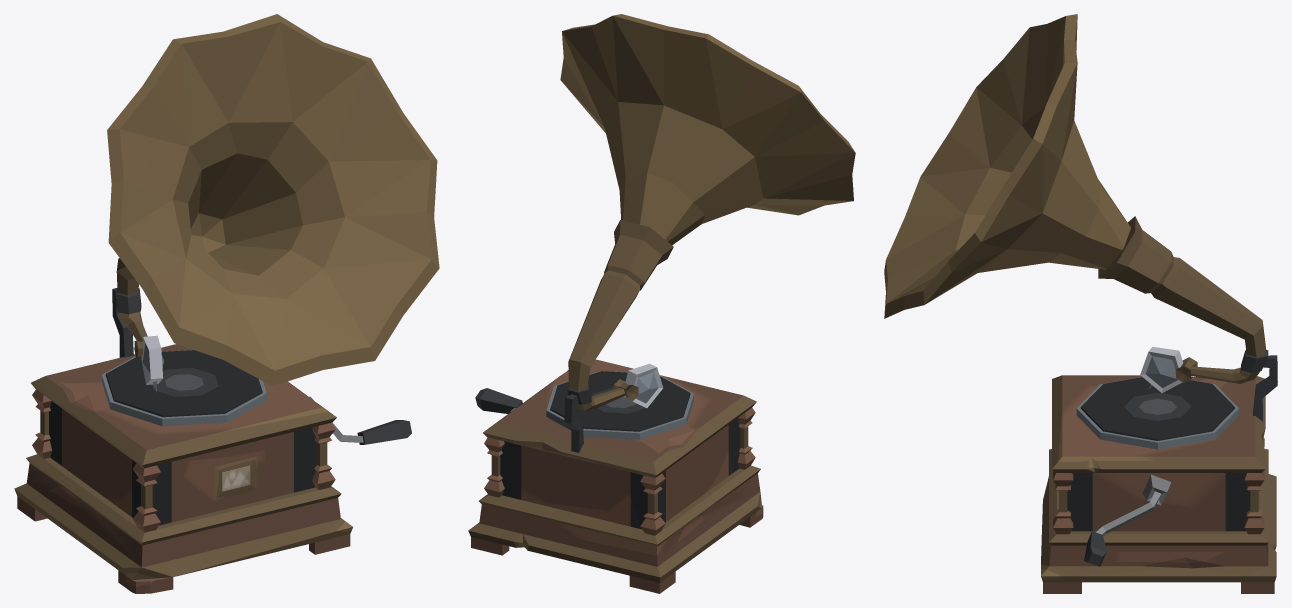
File: SM_Prop_Gramophone_01.fbx
3 renders of one model, left to right at view 1: azimuth 30°, elevation 25°; view 2: azimuth 150°, elevation 25°; view 3: azimuth 270°, elevation 25°, orthographic. The views are drawn at different scales.
Parts seen in each view (by area): view 1: SM_Prop_Gramophone_01; view 2: SM_Prop_Gramophone_01; view 3: SM_Prop_Gramophone_01.
Boxes of the visible parts, <box> form: SM_Prop_Gramophone_01: <box>14,14,439,593</box>; SM_Prop_Gramophone_01: <box>468,14,855,593</box>; SM_Prop_Gramophone_01: <box>884,14,1277,593</box>.
Bounding box in the file's own units: 55.2 × 77.92 × 54.93.
